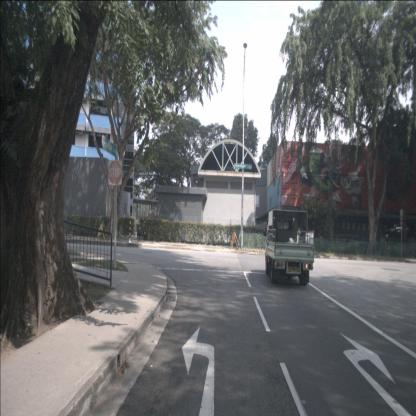vehicle-truck: (266, 210, 314, 286)
